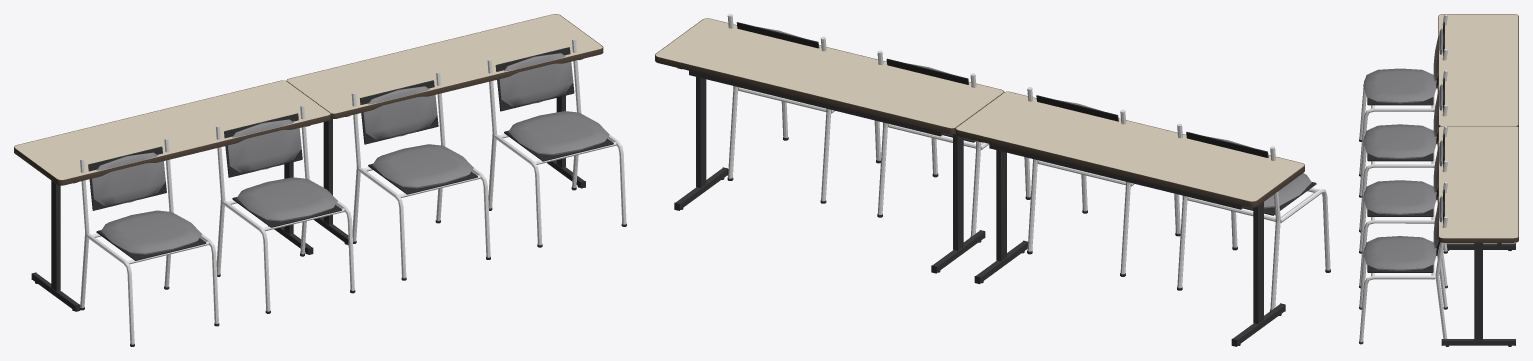
The model's file is Kit_TrainingTable_Row2_Tucked_Charcoal.fbx.
3 renders of one model, left to right at view 1: azimuth 30°, elevation 25°; view 2: azimuth 150°, elevation 25°; view 3: azimuth 270°, elevation 25°, orthographic. The views are drawn at different scales.
Visible parts, largest first — view 1: Kit_TrainingTable_Row2_Tucked_LOD0; view 2: Kit_TrainingTable_Row2_Tucked_LOD0; view 3: Kit_TrainingTable_Row2_Tucked_LOD0.
Boxes of the visible parts, x1,y1,x2,y2 form: Kit_TrainingTable_Row2_Tucked_LOD0: (14,14,626,346); Kit_TrainingTable_Row2_Tucked_LOD0: (655,14,1330,346); Kit_TrainingTable_Row2_Tucked_LOD0: (1359,14,1518,346).
Size of what is drawn, in the model's own units: 3.05 by 0.8015 by 0.92.
